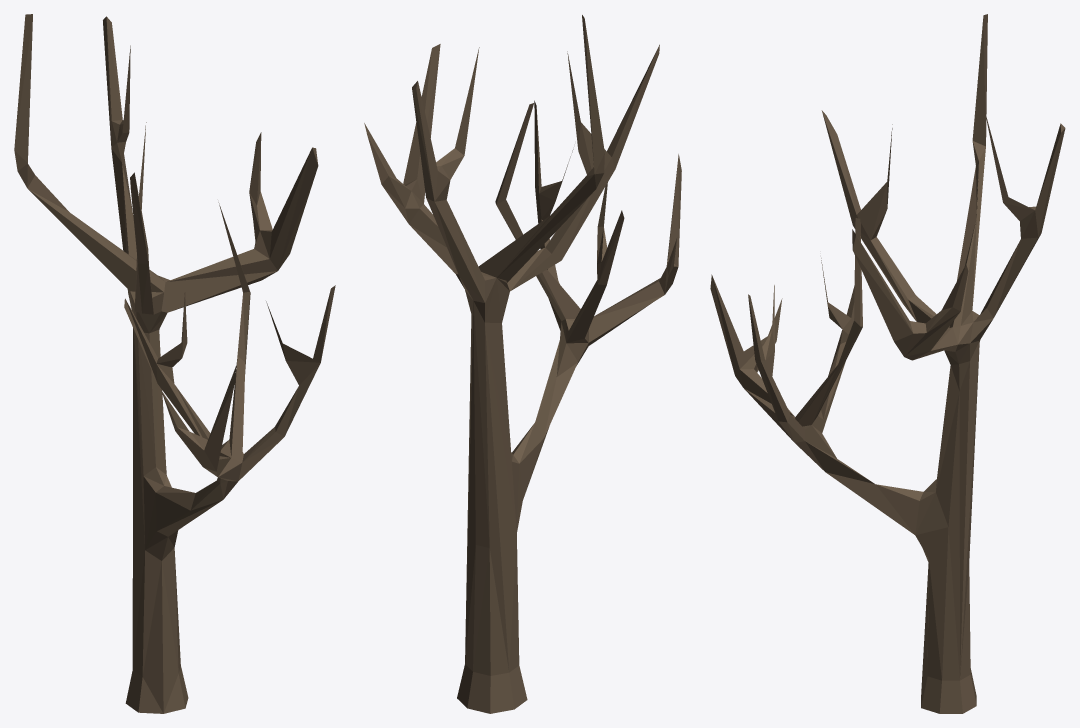
File: pine_desert_2.glb
3 views of the same model, side by side, from view 1: azimuth 30°, elevation 25°; view 2: azimuth 150°, elevation 25°; view 3: azimuth 270°, elevation 25° (orthographic). The views are drawn at different scales.
Parts seen in each view (by area): view 1: lod0; view 2: lod0; view 3: lod0.
Part boxes in pixels (<box>): lod0: <box>14,14,335,713</box>; lod0: <box>364,15,681,713</box>; lod0: <box>710,14,1065,713</box>.
Size of what is drawn, in the model's own units: 2.48 by 6.92 by 3.48.
